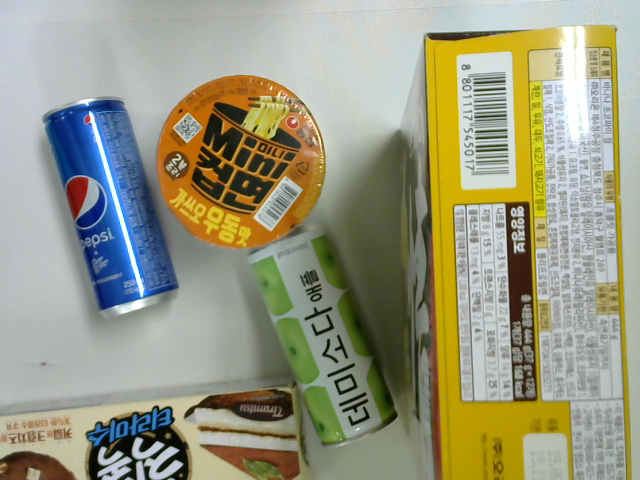Chicchok_Tiramisu: (1, 374, 312, 480)
Choco_Pie_Banana: (396, 26, 634, 479)
Demisoda_Apple_Can_250ml: (245, 224, 399, 447)
Pepsi_Cola_Can_250ml: (43, 97, 181, 321)
Udongmini: (156, 74, 329, 247)
